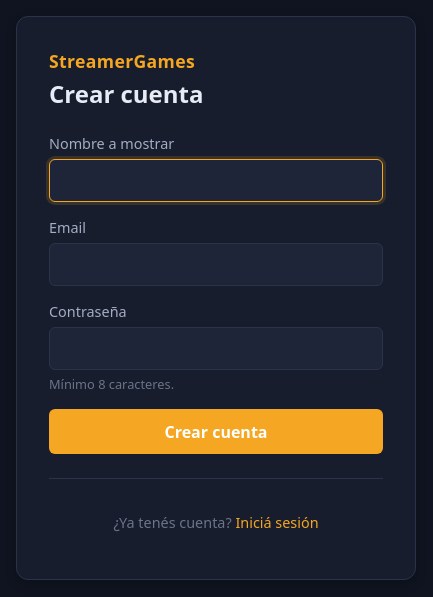
Register page › on successful register, redirects to /verificar-email with the email; does NOT set token
The image size is (433, 597).
Type "Claudio" into the field labelled "Nombre a mostrar".
click(216, 181); type("Claudio")  # box [49,159,383,202]
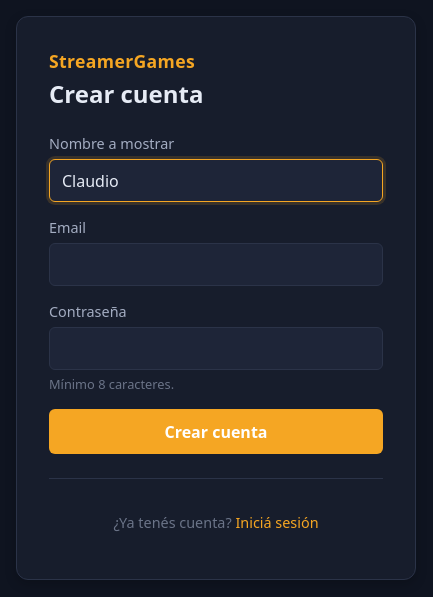
Type "s@x.com" into the field labelled "Email".
click(216, 264); type("s@x.com")  # box [49,243,383,286]
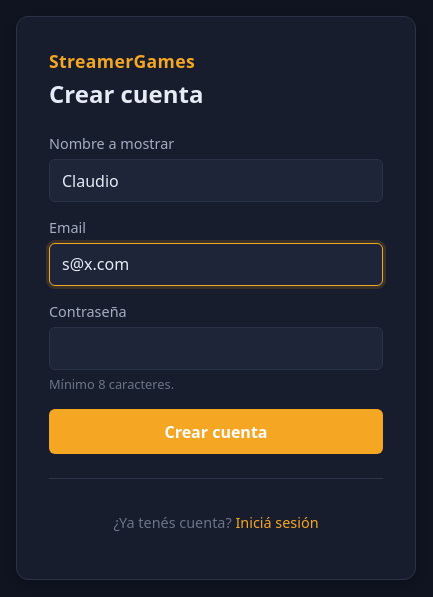
Type "hunter22x" into the password field labelled "Contraseña Mínimo 8 caracteres.".
click(216, 348); type("hunter22x")  # box [49,327,383,370]
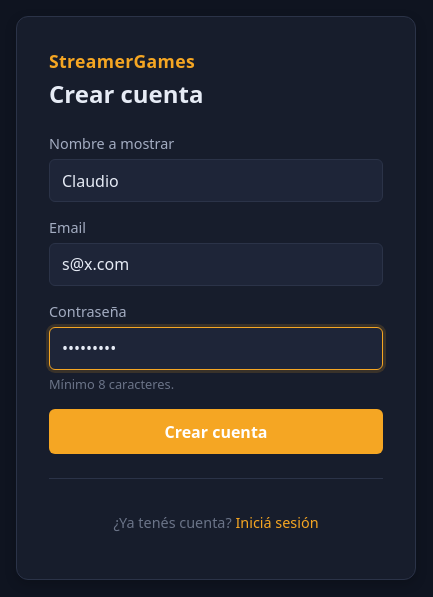
Click the button "Crear cuenta".
click(216, 432)  # box [49,409,383,454]
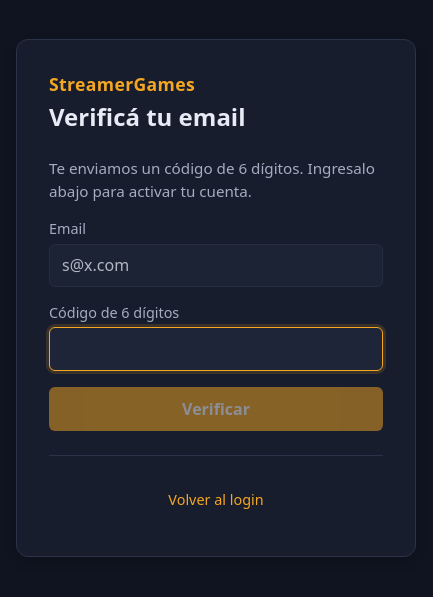
Result: the heading "Verificá tu email" is shown at [49,100,246,133]
Result: the field labelled "Email" holds "s@x.com" at [49,244,383,287]
